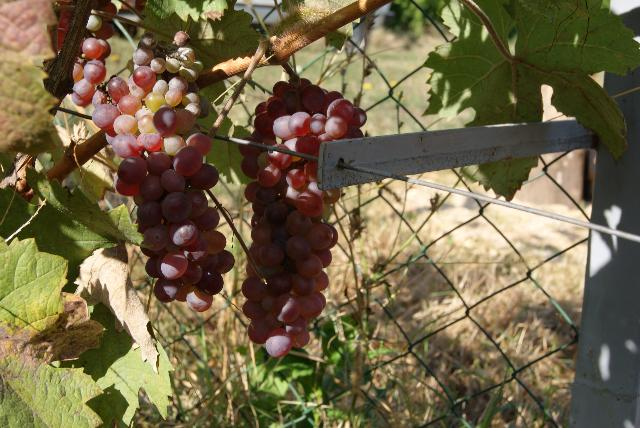grapes: (92, 31, 234, 311), (241, 82, 366, 358)
